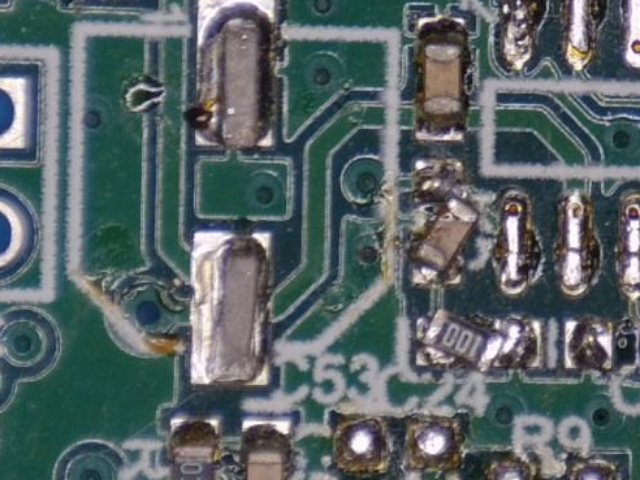pcb_defect: (406, 157, 481, 287), (413, 305, 537, 375), (490, 454, 625, 480)
